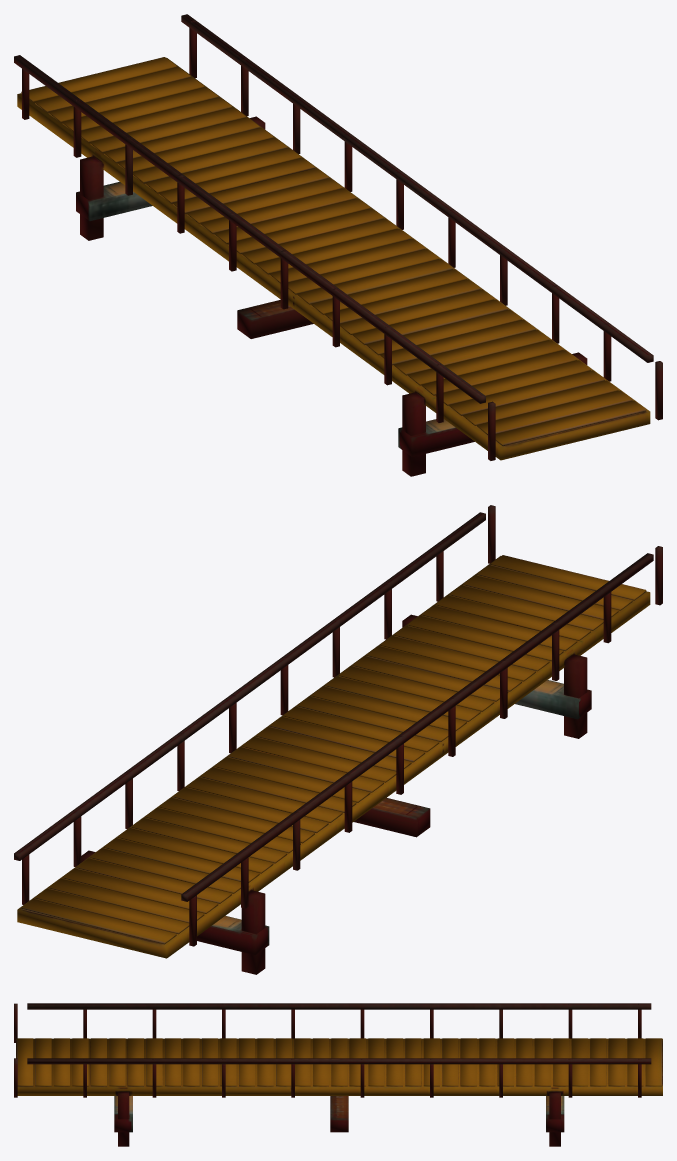
File: wooden-footbridge-tripo-original.glb
3 renders of one model, top to bottom at view 1: azimuth 30°, elevation 25°; view 2: azimuth 150°, elevation 25°; view 3: azimuth 270°, elevation 25°, orthographic. The views are drawn at different scales.
Visible parts, largest first — view 1: Authored_surface_389; view 2: Authored_surface_389; view 3: Authored_surface_389.
Boxes of the visible parts, x1,y1,x2,y2 form: Authored_surface_389: [14, 14, 662, 476]; Authored_surface_389: [14, 505, 662, 974]; Authored_surface_389: [14, 1003, 662, 1146].
Bounding box in the file's own units: 0.2137 × 0.146 × 1.
Materials: 1 (1 with a texture image).
